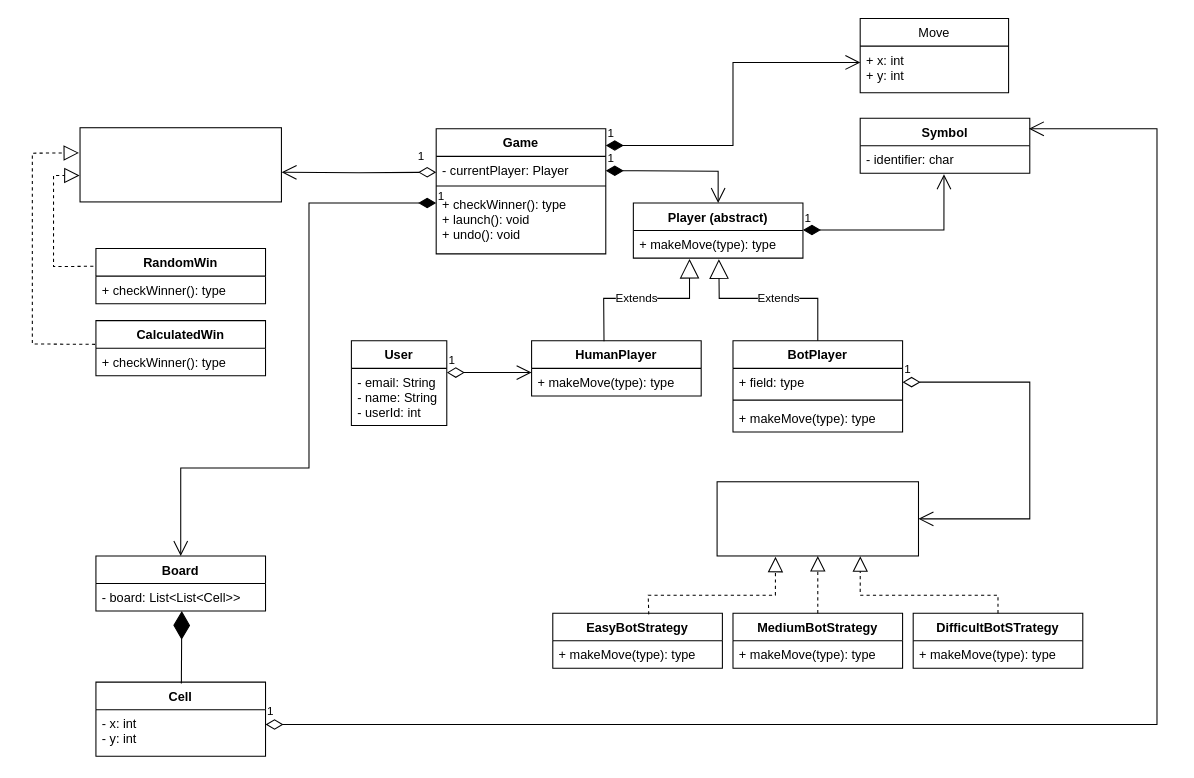
Image size: 1194x778. Some labels were removed from this diagram. Each missing label, with the centre of its shape:
<<Interface>> BotMoveStrategy + makeMove(type): type: (x=817, y=518)
<<Interface>> WinningStrategy + checkWinner(): type: (x=180, y=164)
